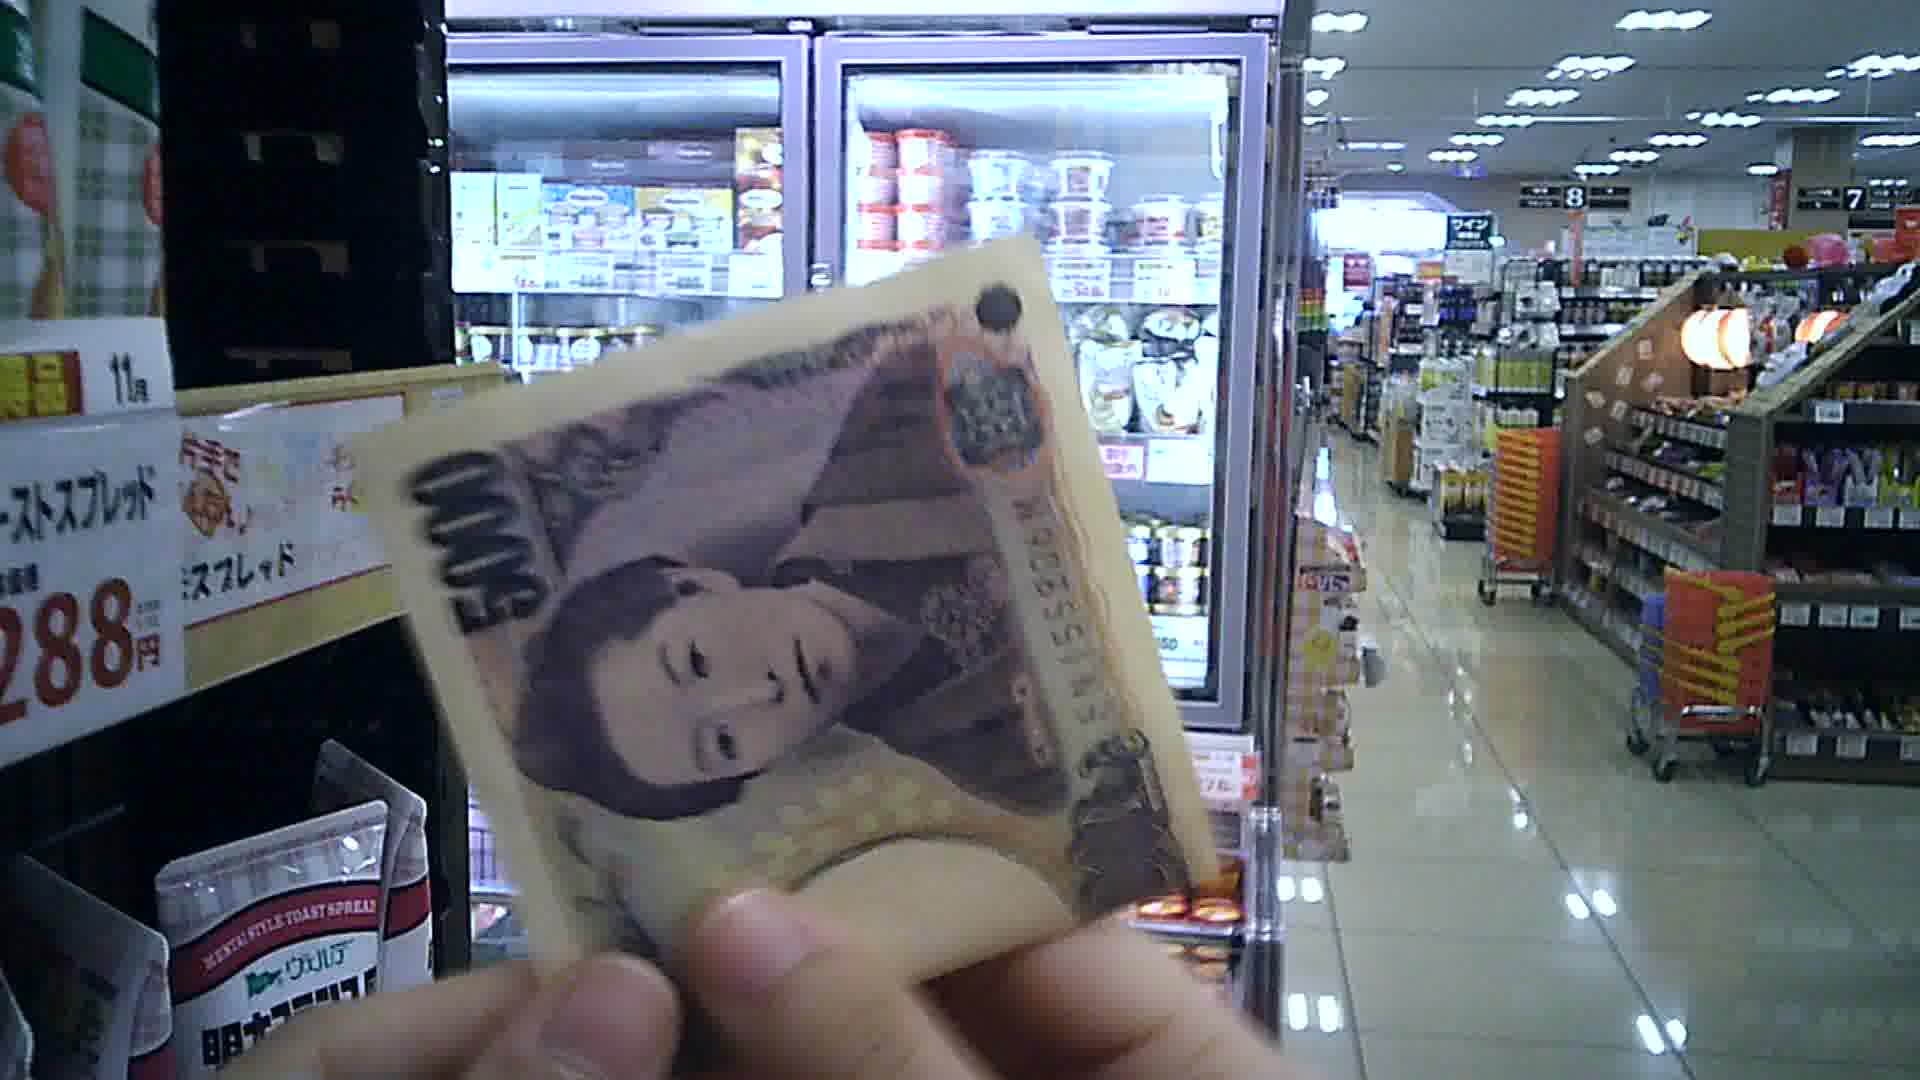5,000 Yen: (360, 260, 1218, 1006)
